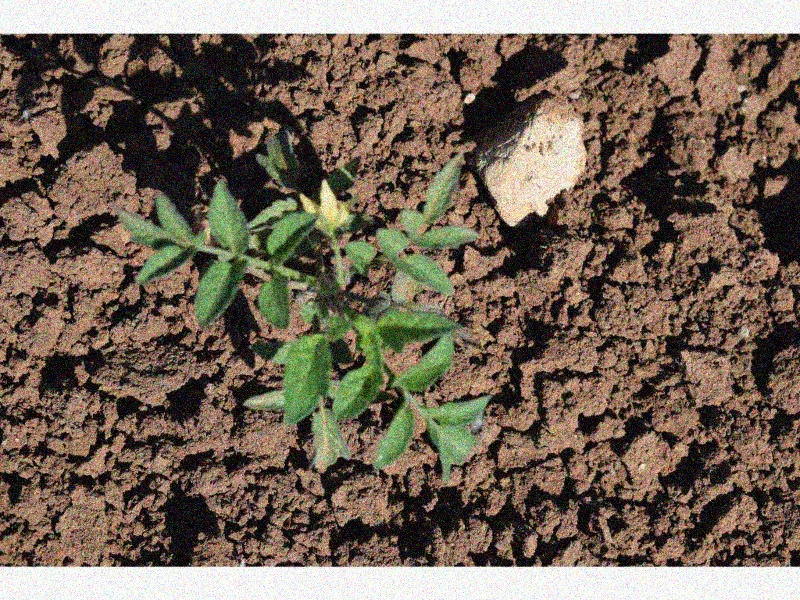tomato: (116, 146, 491, 478)
